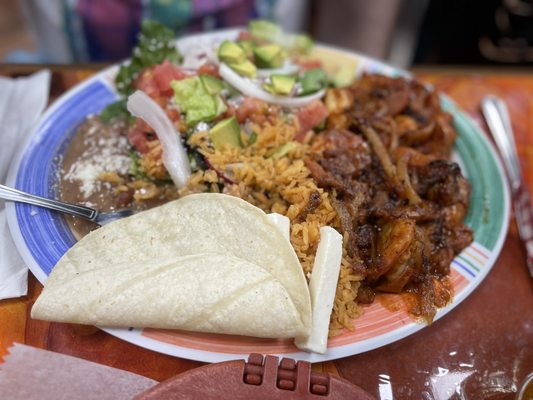burger: (479, 96, 533, 296)
salad: (0, 183, 132, 224)
sandwich: (479, 94, 533, 287)
soup: (29, 193, 313, 342)
